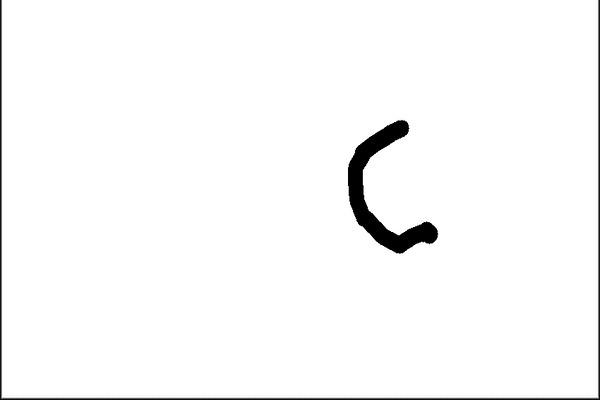C: (342, 111, 446, 256)
